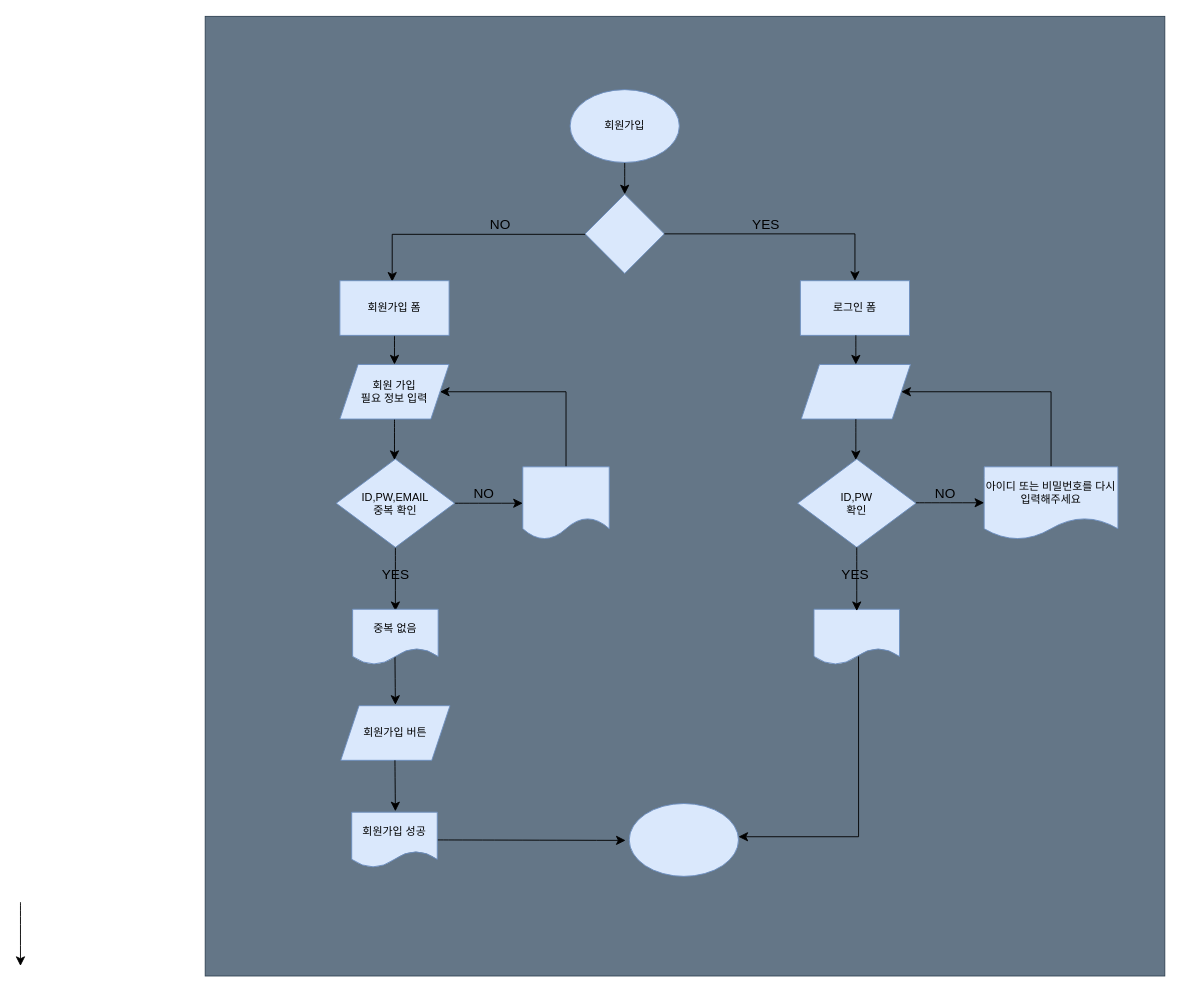
Image size: 1180x992. Some labels were removed from this diagram. The shapes that lost their labels are listed below. From the top down, each one's centre as x and y in pixels, then its label:
At (624,233): "회원 유무".
At (855,391): "ID/PW 입력".
At (565,503): "중복 발생".
At (856,636): "로그인 성공".
At (683,839): "메인화면 이동".
